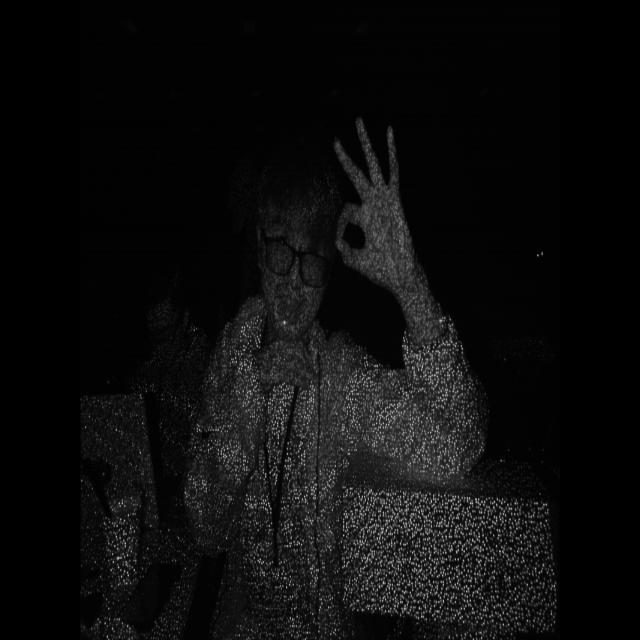F: (322, 112, 422, 312)
